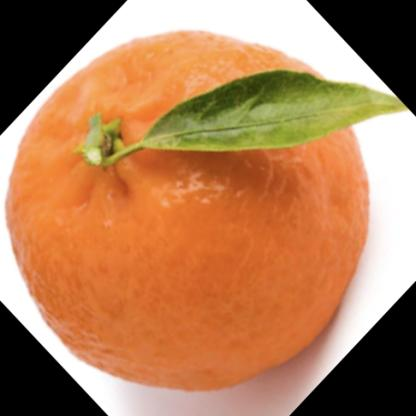fresh: (10, 33, 368, 387)
